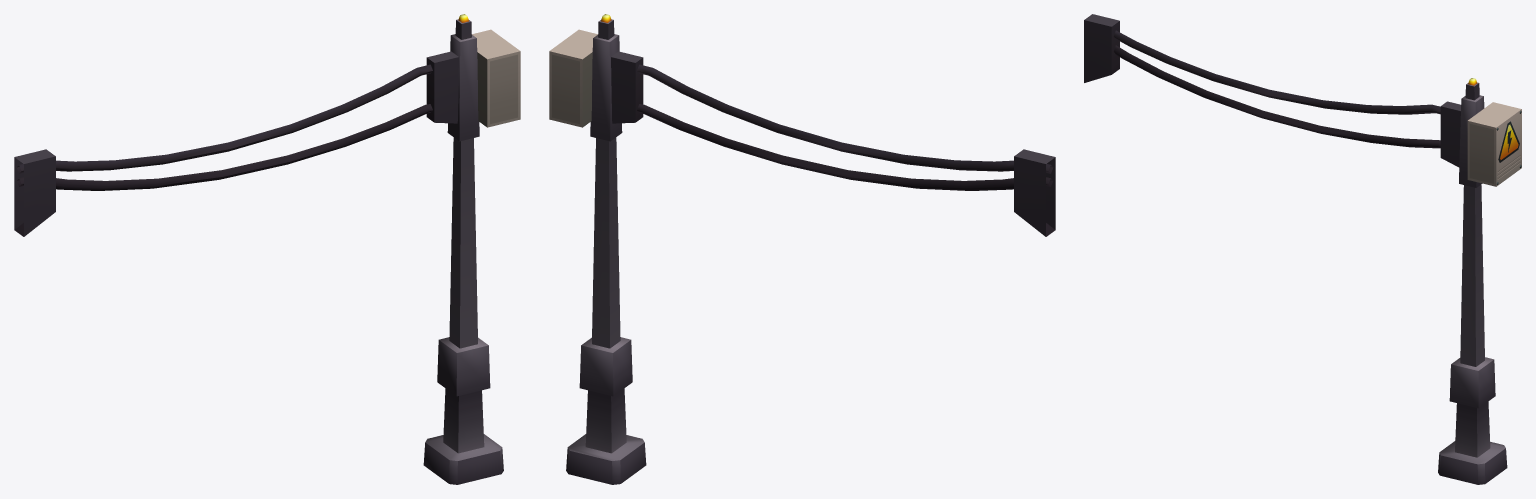
Rendered from Cable_Pole_1A.fbx.
3 renders of one model, left to right at view 1: azimuth 30°, elevation 25°; view 2: azimuth 150°, elevation 25°; view 3: azimuth 330°, elevation 25°, orthographic. The views are drawn at different scales.
Visible parts, largest first — view 1: Cable_Pole_1A; view 2: Cable_Pole_1A; view 3: Cable_Pole_1A.
Part boxes in pixels (x1,y1,x2,y2): Cable_Pole_1A: (14, 14, 520, 484); Cable_Pole_1A: (549, 14, 1055, 484); Cable_Pole_1A: (1084, 14, 1521, 484).
Bounding box in the file's own units: 878 × 778 × 98.52.
